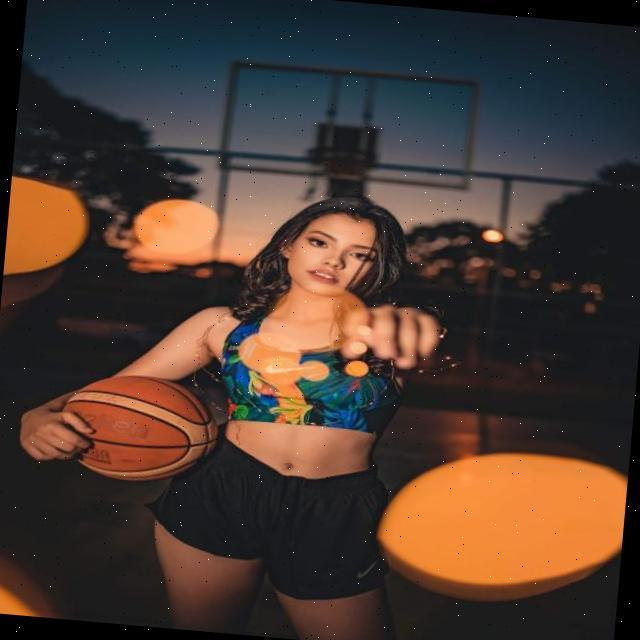ball: (62, 370, 221, 488)
